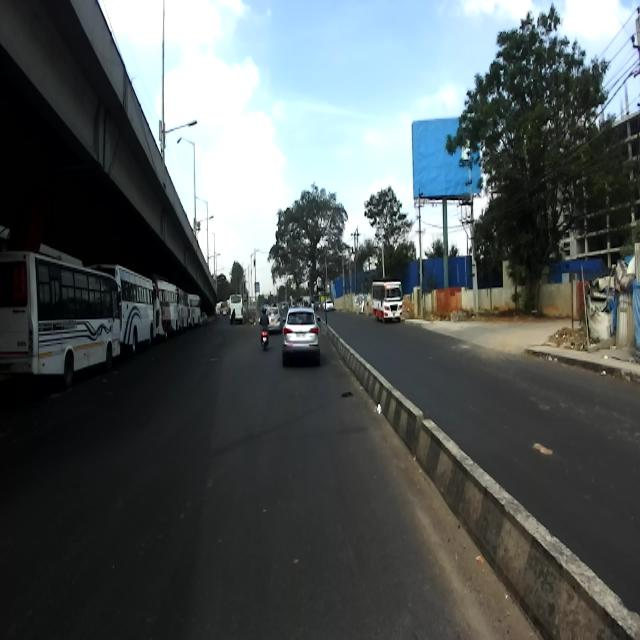bus ahead at: (4, 242, 123, 381)
person ahead at: (279, 306, 325, 369)
